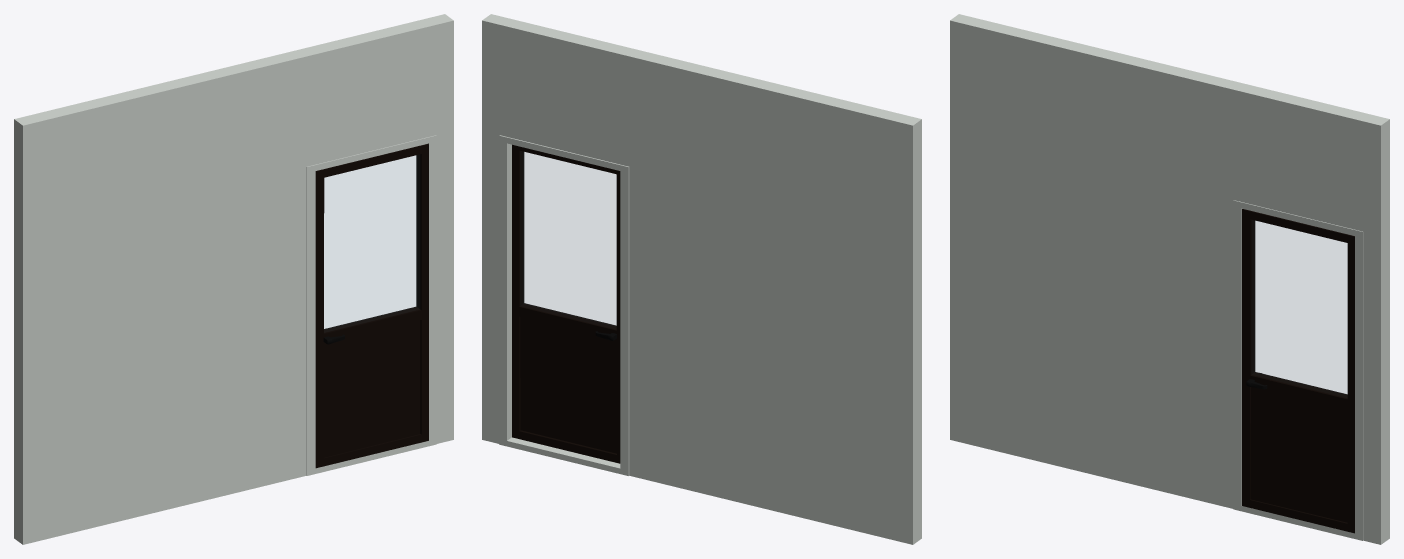
Rendered from inner_wall_room_type2.FBX.
3 renders of one model, left to right at view 1: azimuth 30°, elevation 25°; view 2: azimuth 150°, elevation 25°; view 3: azimuth 330°, elevation 25°, orthographic.
Parts seen in each view (by area): view 1: inner_wall_room_type2_003, Inner_door_type2_008; view 2: inner_wall_room_type2_003, Inner_door_type2_008; view 3: inner_wall_room_type2_003, Inner_door_type2_008.
Boxes of the visible parts, x1,y1,x2,y2 form: inner_wall_room_type2_003: (14,14,453,544); Inner_door_type2_008: (315,144,428,468); inner_wall_room_type2_003: (482,14,921,544); Inner_door_type2_008: (512,144,620,463); inner_wall_room_type2_003: (950,14,1389,544); Inner_door_type2_008: (1242,209,1354,533).
Bounding box in the file's own units: 724 × 673 × 40.44.
Materials: 4 (1 with a texture image).
